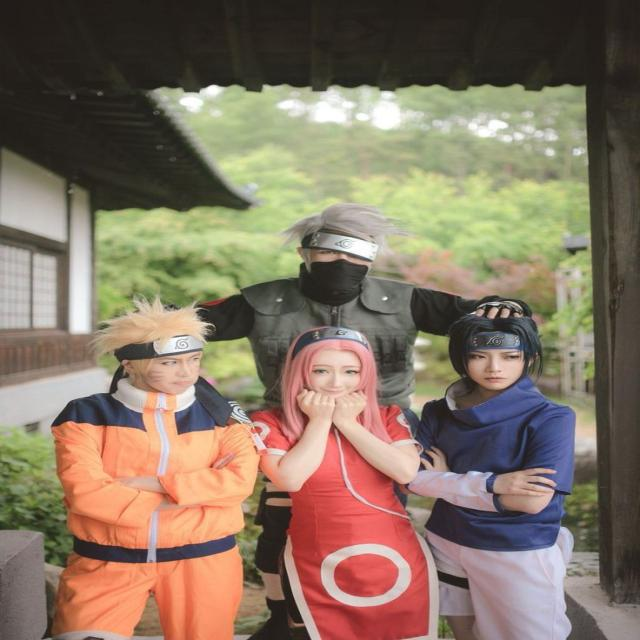stand: (233, 207, 427, 640), (74, 300, 266, 640), (428, 315, 577, 640), (282, 304, 409, 640)
